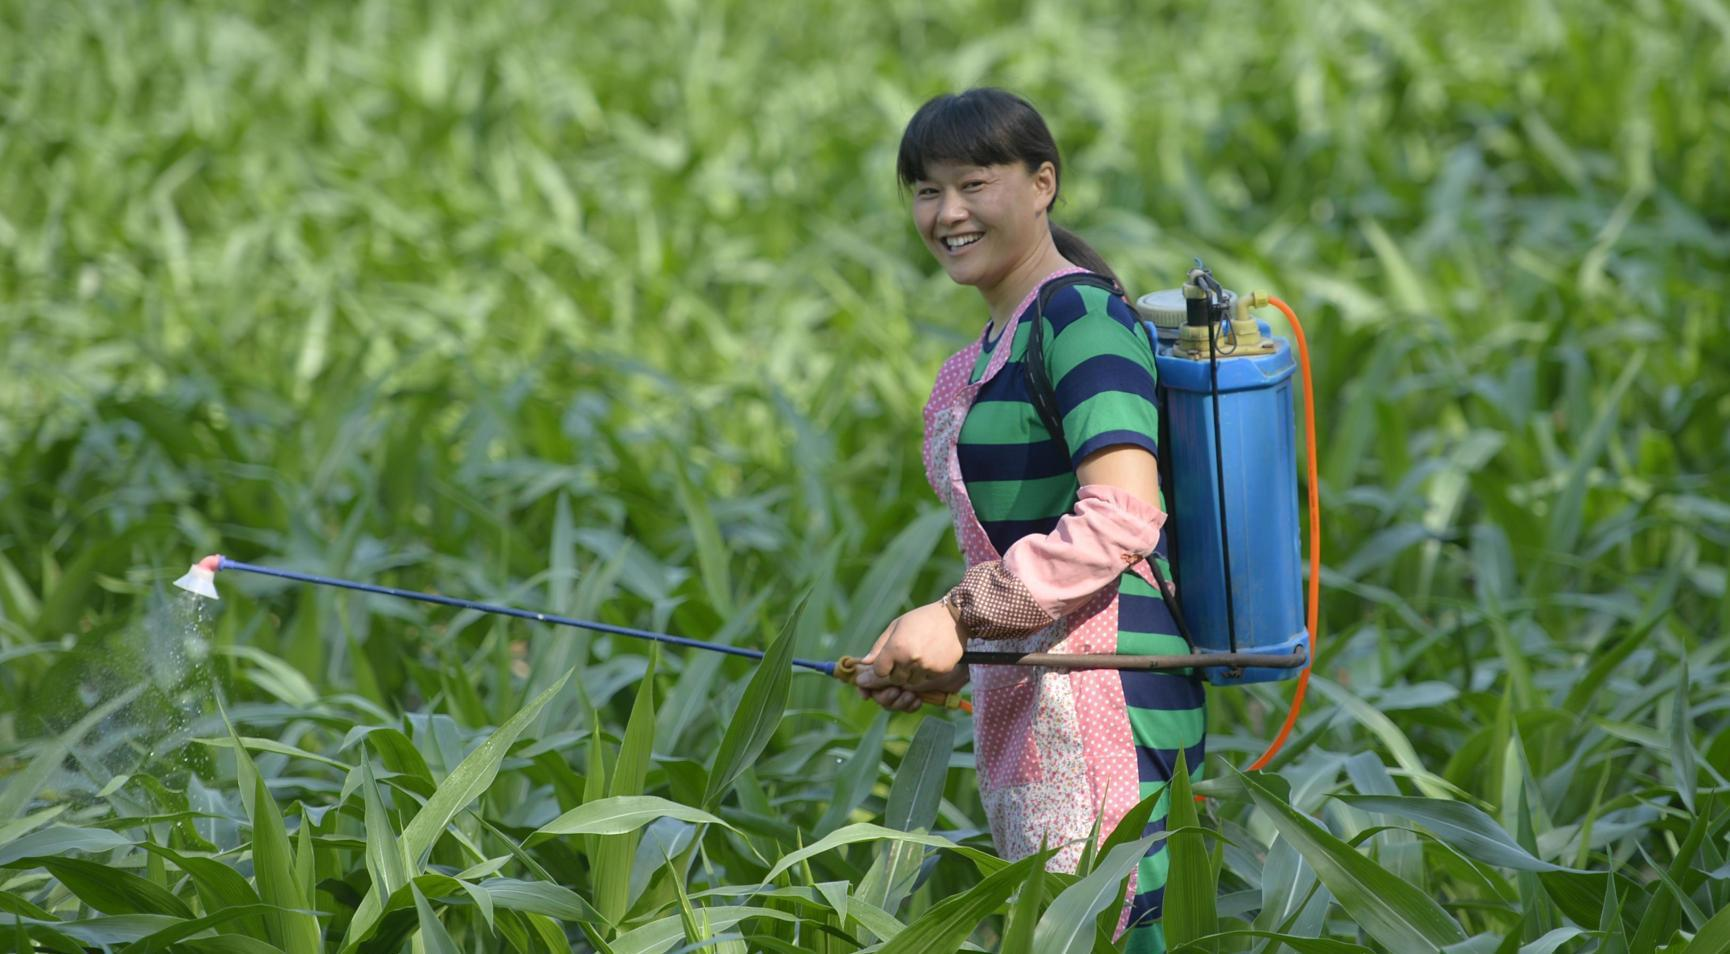berrl: (1145, 269, 1331, 687)
